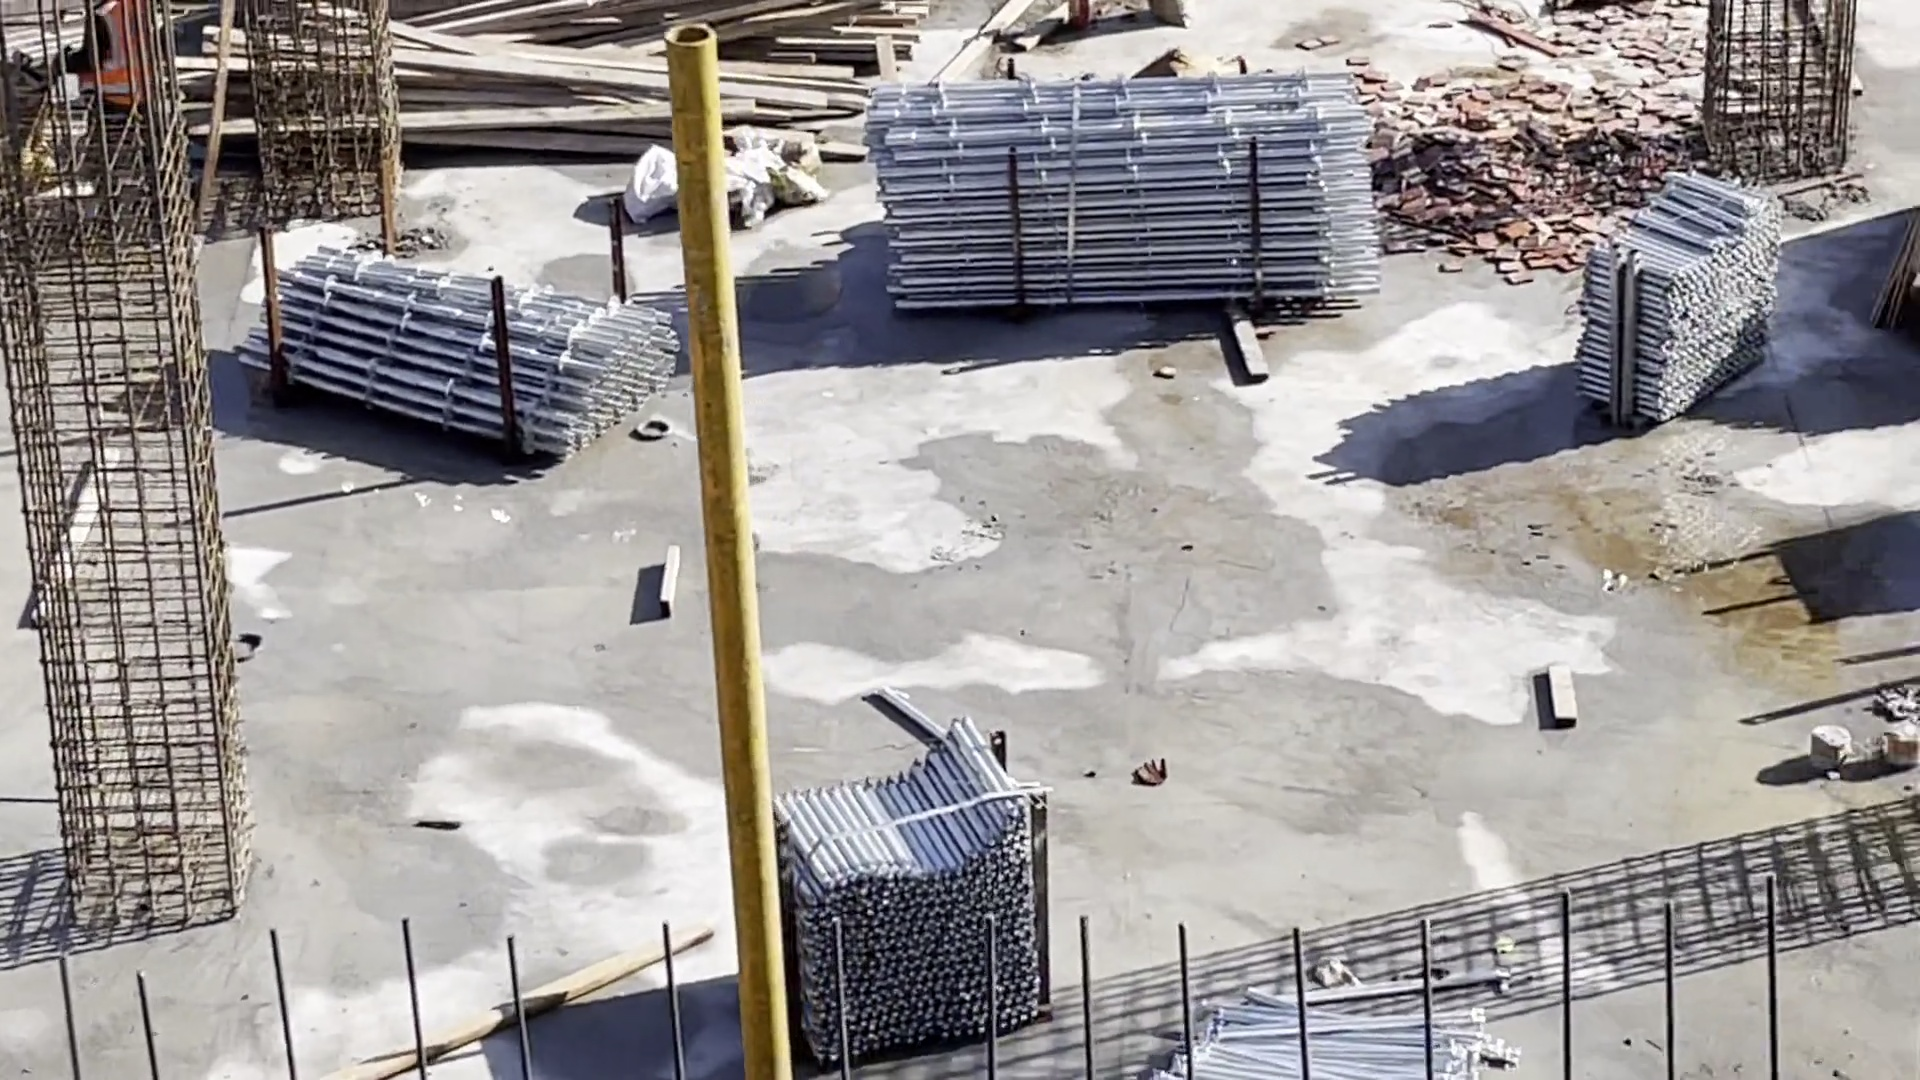scaffold: (862, 65, 1389, 315), (764, 717, 1058, 1072), (233, 243, 678, 464), (1576, 167, 1780, 423)
